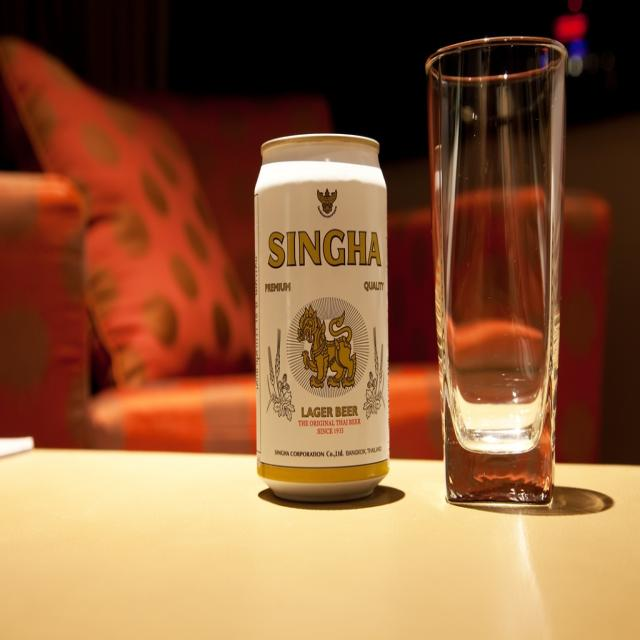singha: (258, 221, 388, 446)
